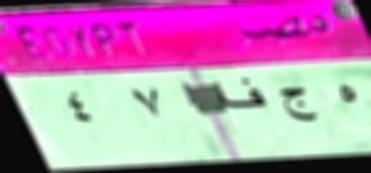4: (62, 88, 96, 128)
7: (132, 82, 163, 122)
faa: (213, 74, 268, 117)
haa: (330, 82, 362, 112)
jeem: (274, 79, 320, 130)
